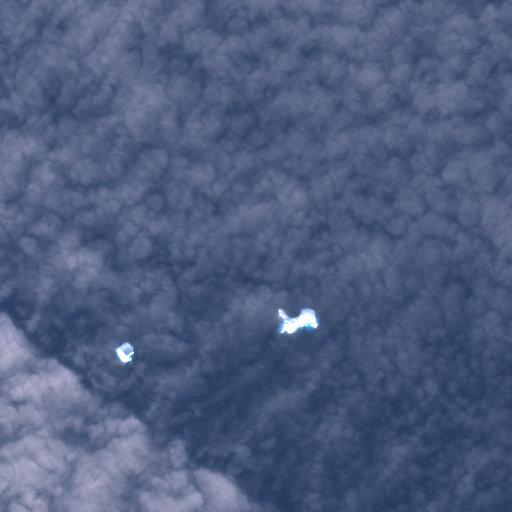Iceberg: (278, 308, 318, 333), (117, 343, 133, 361)
